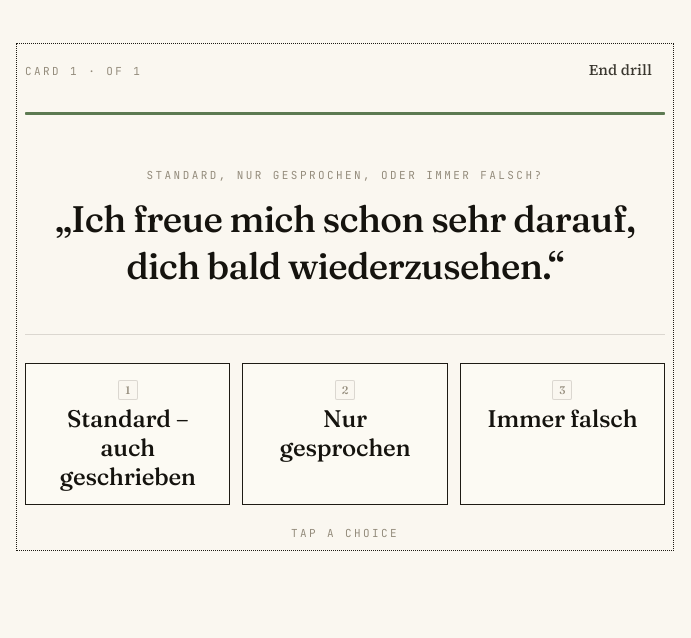
Test: RegisterRunner — smoke tests › shows wrong feedback when an incorrect verdict is picked
Click the button with class "choice" showing "2 Nur gesprochen": (345, 434) x1=242 y1=363 x2=448 y2=505
(page scrolled)
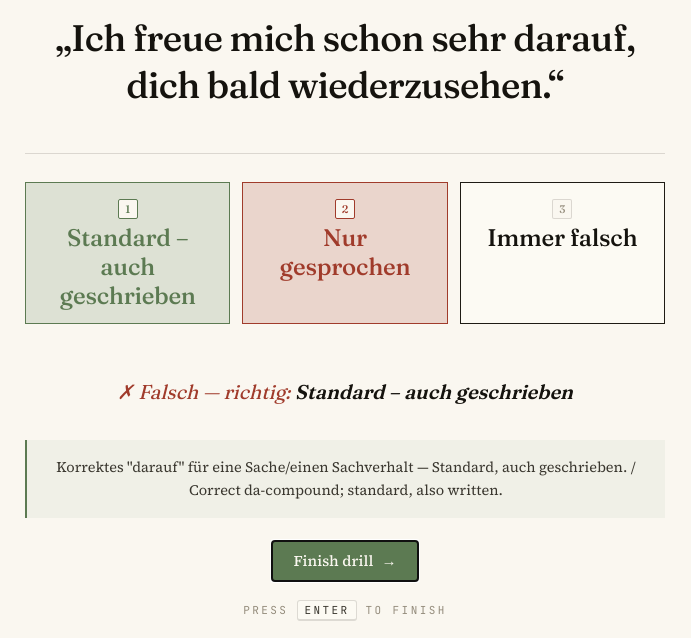
expect the element with class "wrong" that starts with "✗ Falsch — richtig:" is shown: met, box x1=117 y1=376 x2=573 y2=408
